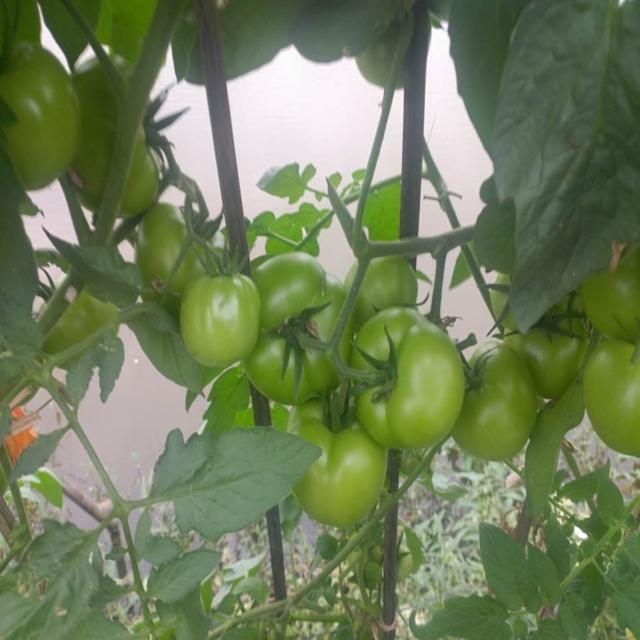tomato: (352, 313, 463, 443), (74, 57, 162, 211), (254, 256, 344, 398), (287, 407, 392, 523), (1, 52, 87, 183), (456, 342, 536, 457), (577, 340, 640, 454), (187, 271, 260, 365), (143, 205, 210, 293), (42, 289, 117, 358), (516, 319, 585, 392), (349, 254, 421, 314), (587, 271, 640, 343), (361, 40, 411, 89), (492, 277, 519, 337)
